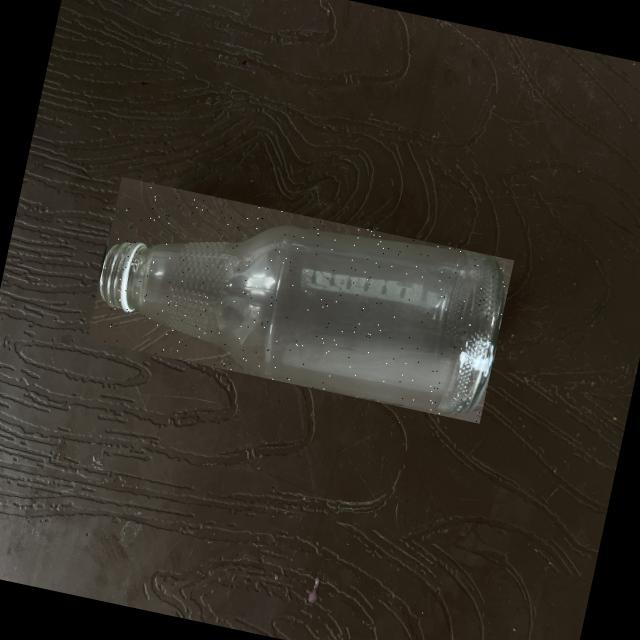Glass_Bottle: (100, 226, 503, 413)
